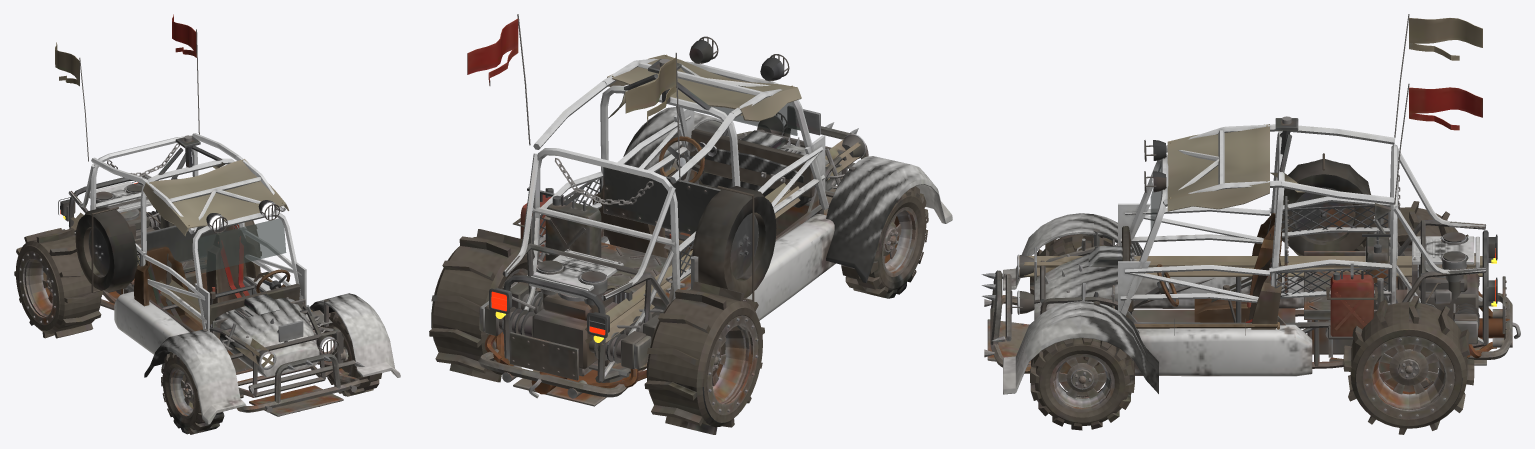
Rendered from e_buggy.glb.
3 renders of one model, left to right at view 1: azimuth 30°, elevation 25°; view 2: azimuth 150°, elevation 25°; view 3: azimuth 270°, elevation 25°, orthographic. The views are drawn at different scales.
Visible parts, largest first — view 1: body_mesh, wheel_RR_tire, panel_hood, panel_fender_R, panel_bumper_F, panel_fender_L, wheel_RR_rim, wheel_FR_tire, wheel_FR_rim, wheel_FL_tire, panel_trunk; view 2: body_mesh, wheel_RR_tire, wheel_RL_tire, panel_fender_R, panel_bumper_R, wheel_RR_rim, panel_hood, wheel_FR_tire, panel_fender_L, wheel_FR_rim, panel_trunk, steering_wheel_mesh (+1 smaller); view 3: body_mesh, wheel_RL_tire, wheel_RL_rim, panel_fender_L, wheel_FL_tire, panel_hood, wheel_FL_rim, panel_bumper_F, panel_fender_R, wheel_RR_tire, panel_trunk, wheel_FR_tire (+1 smaller).
Boxes of the visible parts, x1,y1,x2,y2 form: body_mesh: [55, 14, 346, 398]; wheel_RR_tire: [14, 228, 102, 338]; panel_hood: [215, 293, 319, 377]; panel_fender_R: [144, 329, 245, 424]; panel_bumper_F: [236, 353, 364, 416]; panel_fender_L: [310, 293, 400, 377]; wheel_RR_rim: [19, 251, 56, 324]; wheel_FR_tire: [161, 352, 224, 434]; wheel_FR_rim: [169, 367, 195, 418]; wheel_FL_tire: [320, 311, 382, 396]; panel_trunk: [89, 181, 151, 212]; body_mesh: [467, 14, 866, 406]; wheel_RR_tire: [644, 281, 764, 434]; wheel_RL_tire: [429, 229, 527, 382]; panel_fender_R: [826, 156, 952, 282]; panel_bumper_R: [478, 332, 627, 398]; wheel_RR_rim: [707, 315, 758, 414]; panel_hood: [697, 106, 841, 207]; wheel_FR_tire: [841, 186, 928, 298]; panel_fender_L: [623, 107, 728, 176]; wheel_FR_rim: [882, 207, 917, 276]; panel_trunk: [529, 249, 623, 299]; steering_wheel_mesh: [659, 136, 704, 182]; body_mesh: [1010, 14, 1512, 387]; wheel_RL_tire: [1343, 296, 1474, 434]; wheel_RL_rim: [1363, 336, 1454, 419]; panel_fender_L: [1003, 301, 1158, 394]; wheel_FL_tire: [1030, 338, 1134, 430]; panel_hood: [1034, 243, 1131, 319]; wheel_FL_rim: [1050, 354, 1114, 412]; panel_bumper_F: [981, 270, 1034, 373]; panel_fender_R: [1003, 213, 1142, 290]; wheel_RR_tire: [1354, 201, 1468, 250]; panel_trunk: [1412, 236, 1479, 267]; wheel_FR_tire: [1030, 234, 1116, 299].
Size of the model in its own units: 2.02 by 2.55 by 3.8.
Materials: 22 (18 with a texture image).
